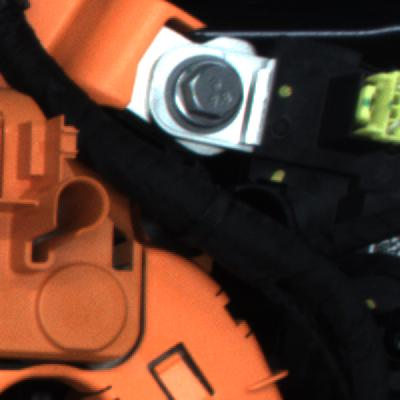nut_b: (162, 53, 259, 138)
